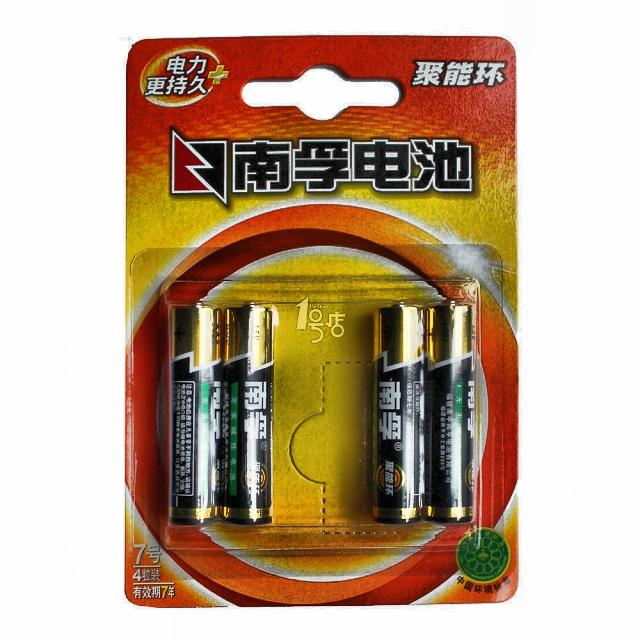Non-Valuable Waste - Batteries: (220, 305, 274, 524), (372, 305, 425, 524), (169, 306, 221, 524), (425, 305, 475, 522)
